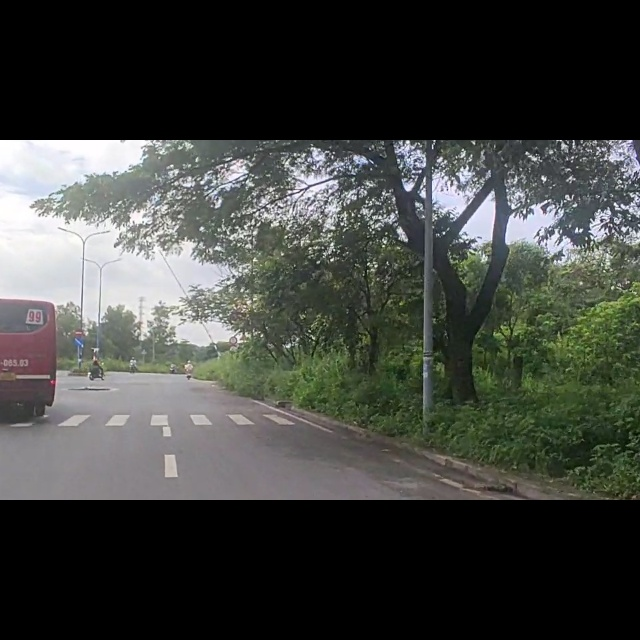bien_hieu_lenh: (73, 334, 85, 351), (74, 350, 86, 367)
